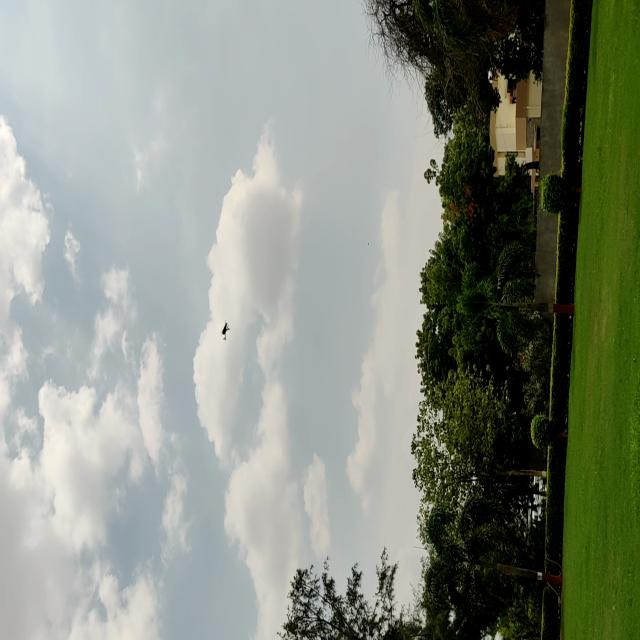drone: (214, 316, 234, 344)
